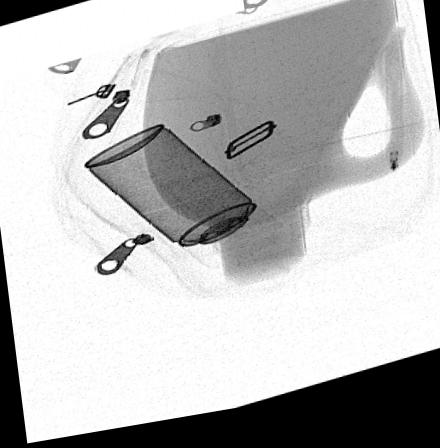Sprayer: (83, 129, 281, 277)
